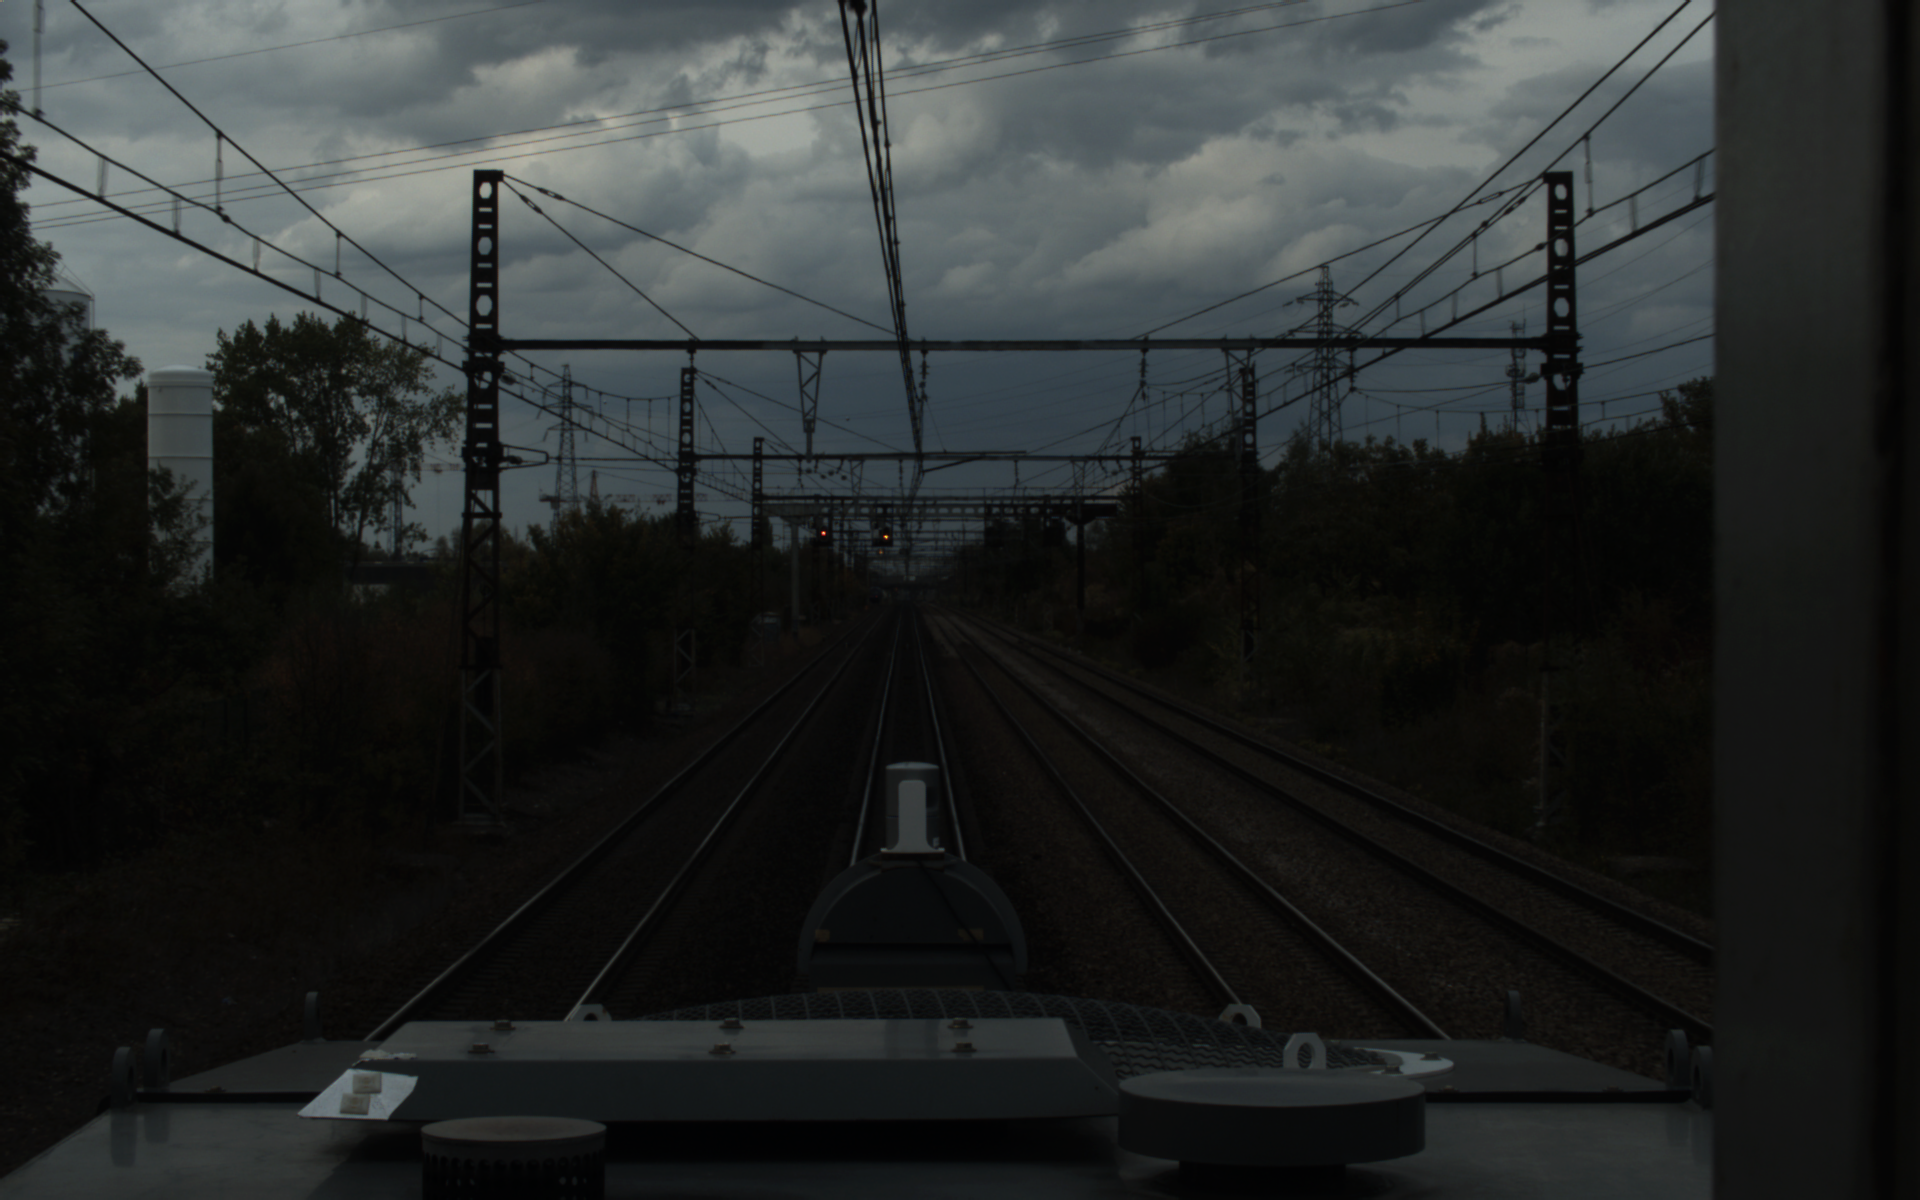Blinking: (879, 525, 892, 542)
Fixed: (816, 524, 829, 541)
